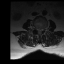CCS_normal: (38, 27, 40, 34)
LFS_normal: (42, 27, 44, 32)
LLS_normal: (40, 27, 42, 33)
RFS_normal: (35, 26, 37, 31)
RLS_normal: (37, 27, 38, 33)
